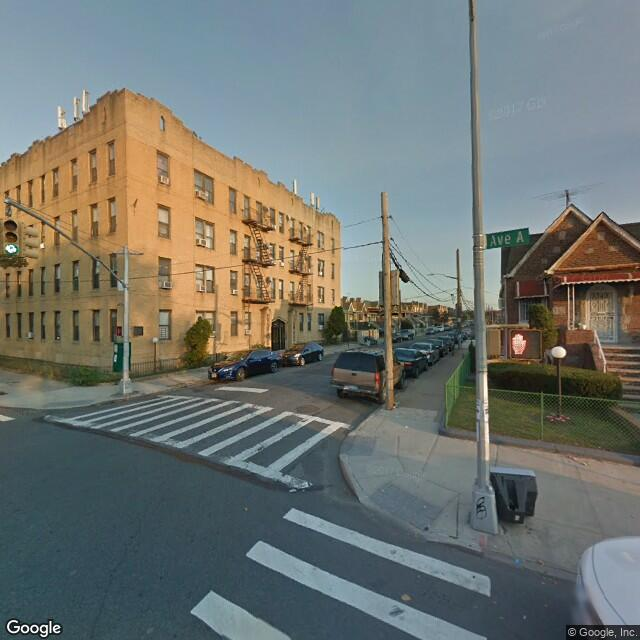litter: (511, 551, 526, 568), (397, 422, 415, 435)
